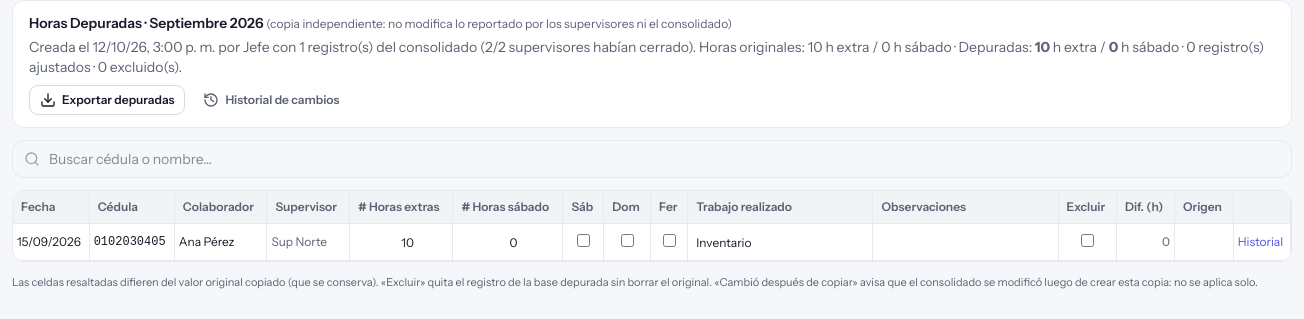
Test: DepurationView › guarda automáticamente, conserva el original a la vista y confirma solo con el servidor
The image size is (1304, 319).
Replace the text in the field named "# Horas extras Ana Pérez 15/09/2026" with "8" at coordinates (386, 242), box [354,228,418,256]
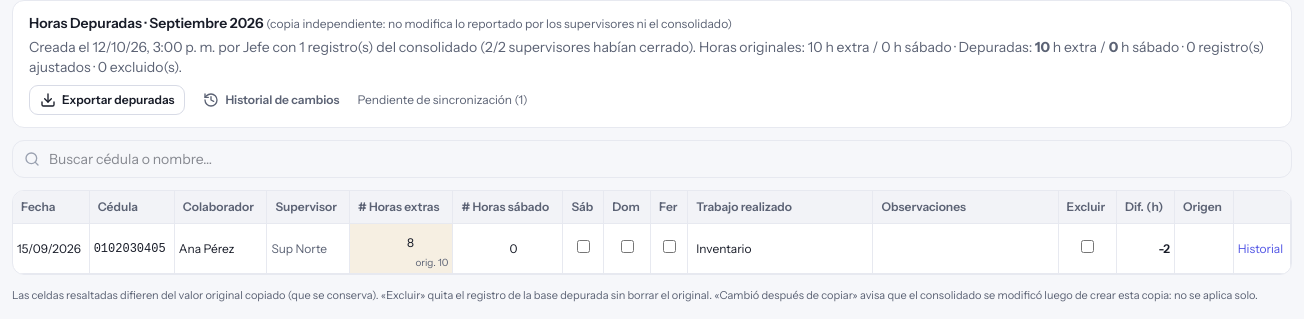
Check: the text "orig. 10" is shown, box [415,256,448,269]
Leave the field named "# Horas extras Ana Pérez 15/09/2026", box [354,228,418,256]
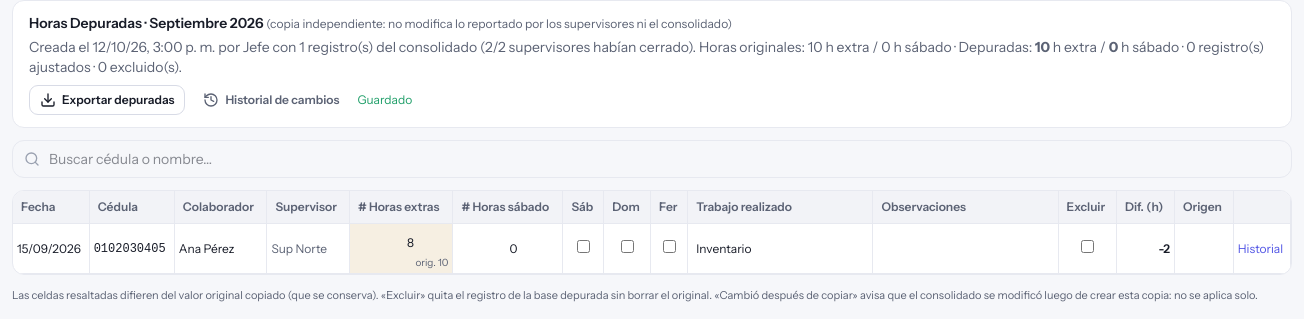
Check: the text "-2" is shown, box [1117,224,1175,274]
Check: the text "Guardado" is shown, box [357,92,412,108]
